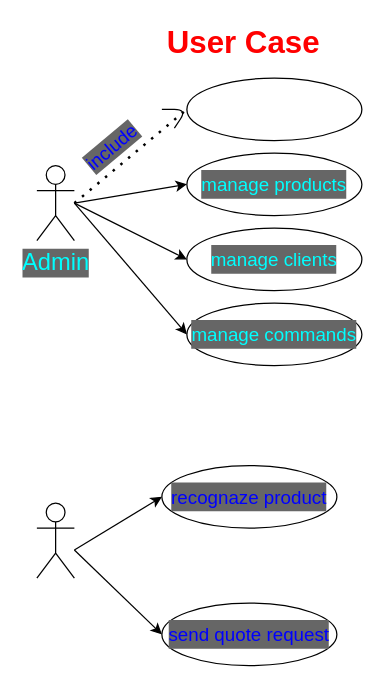
Some shapes in this 384 by 688 pixel diagram are drawn without their labels. Here are the shapes that lost their labels. From the top down, the box of each, then its label:
(186, 77, 362, 141): Login
(36, 502, 74, 578): User
